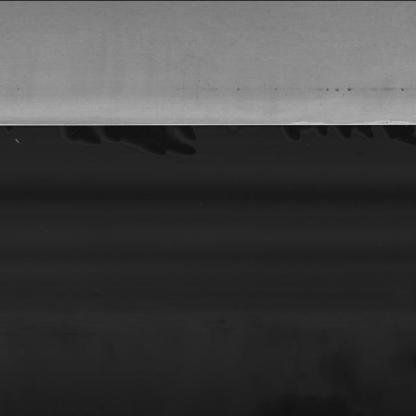oil_spot: (267, 83, 408, 93)
